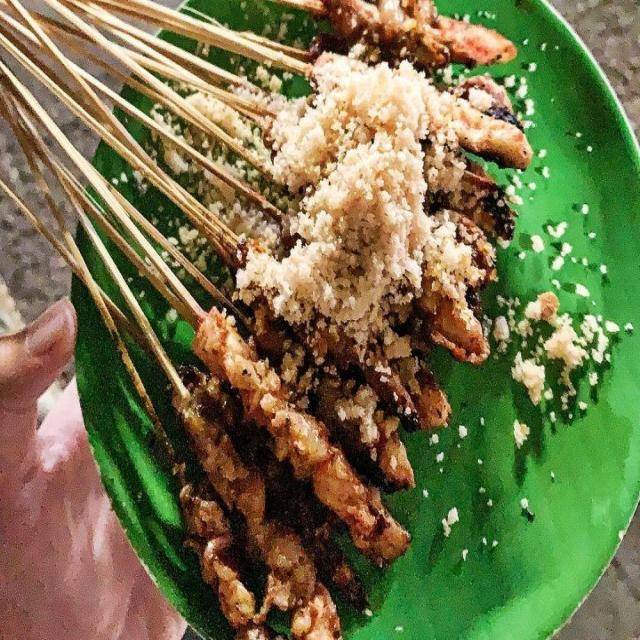Sate: (29, 9, 524, 619)
